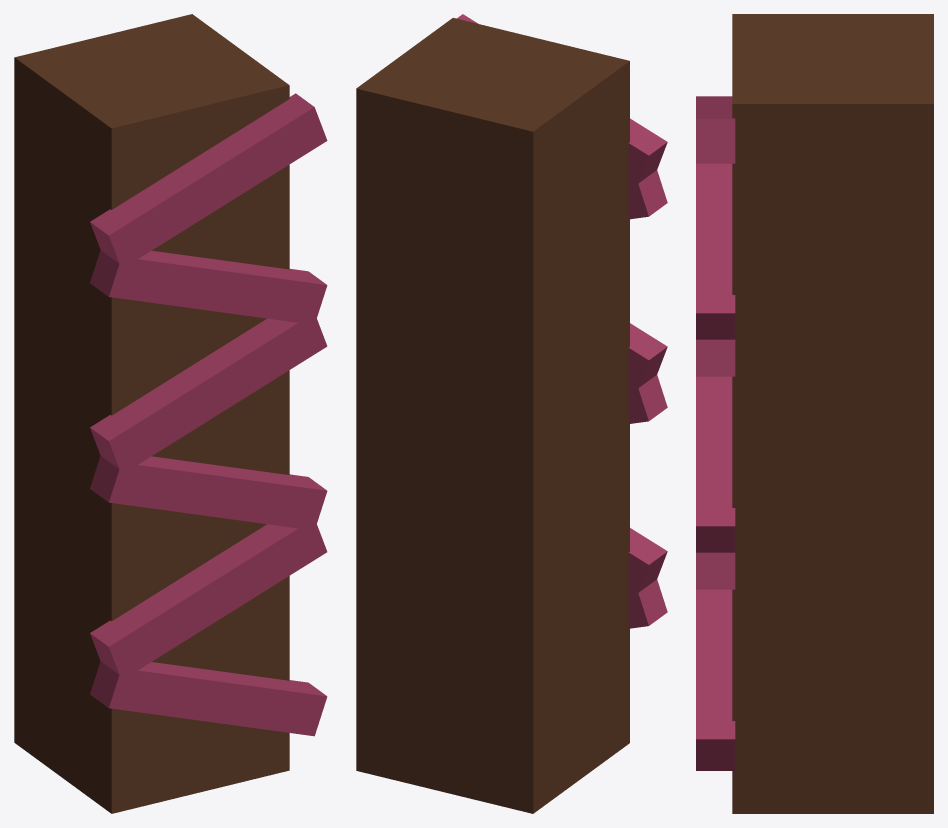
Rendered from silk_cord.obj.
3 renders of one model, left to right at view 1: azimuth 30°, elevation 25°; view 2: azimuth 150°, elevation 25°; view 3: azimuth 270°, elevation 25°, orthographic. The views are drawn at different scales.
Visible parts, largest first — view 1: silk_grip_core, silk_wrap_0, silk_wrap_4, silk_wrap_1, silk_wrap_5, silk_wrap_2, silk_wrap_3, silk_wrap_0_edge, silk_wrap_2_edge, silk_wrap_4_edge, silk_wrap_3_edge, silk_wrap_5_edge (+1 smaller); view 2: silk_grip_core, silk_wrap_0_edge, silk_wrap_4_edge, silk_wrap_2_edge, silk_wrap_5_edge, silk_wrap_1_edge, silk_wrap_3_edge, silk_wrap_0, silk_wrap_3, silk_wrap_4, silk_wrap_5; view 3: silk_grip_core, silk_wrap_5_edge, silk_wrap_1_edge, silk_wrap_3_edge, silk_wrap_0_edge, silk_wrap_2_edge, silk_wrap_4_edge.
Boxes of the visible parts, bbox=[...] form: silk_grip_core: bbox=[14, 14, 289, 813]; silk_wrap_0: bbox=[109, 107, 327, 268]; silk_wrap_4: bbox=[109, 518, 327, 680]; silk_wrap_1: bbox=[109, 257, 327, 324]; silk_wrap_5: bbox=[109, 670, 327, 736]; silk_wrap_2: bbox=[109, 317, 327, 474]; silk_wrap_3: bbox=[109, 463, 327, 528]; silk_wrap_0_edge: bbox=[90, 93, 314, 262]; silk_wrap_2_edge: bbox=[90, 318, 297, 468]; silk_wrap_4_edge: bbox=[90, 524, 297, 674]; silk_wrap_3_edge: bbox=[90, 456, 326, 502]; silk_wrap_5_edge: bbox=[90, 661, 326, 707]; silk_grip_core: bbox=[356, 18, 629, 813]; silk_wrap_0_edge: bbox=[457, 14, 667, 183]; silk_wrap_4_edge: bbox=[629, 528, 667, 592]; silk_wrap_2_edge: bbox=[629, 323, 667, 387]; silk_wrap_5_edge: bbox=[638, 579, 667, 625]; silk_wrap_1_edge: bbox=[638, 170, 667, 216]; silk_wrap_3_edge: bbox=[638, 375, 667, 420]; silk_wrap_0: bbox=[628, 143, 648, 188]; silk_wrap_3: bbox=[628, 381, 648, 423]; silk_wrap_4: bbox=[628, 553, 648, 598]; silk_wrap_5: bbox=[628, 586, 648, 628]; silk_grip_core: bbox=[732, 14, 933, 813]; silk_wrap_5_edge: bbox=[696, 589, 735, 770]; silk_wrap_1_edge: bbox=[696, 163, 735, 339]; silk_wrap_3_edge: bbox=[696, 376, 735, 552]; silk_wrap_0_edge: bbox=[696, 96, 735, 163]; silk_wrap_2_edge: bbox=[696, 339, 735, 376]; silk_wrap_4_edge: bbox=[696, 552, 735, 589].
Bounding box in the file's own units: 0.2337 × 0.7 × 0.2125.
